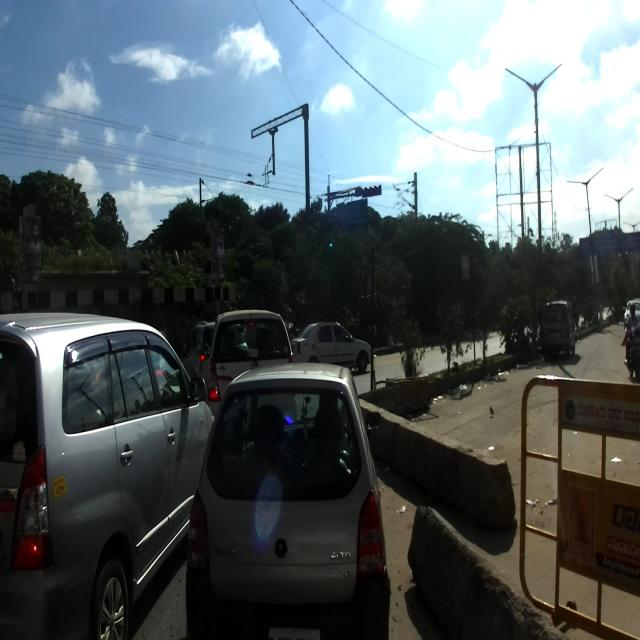car: (0, 310, 214, 639), (184, 364, 390, 640), (199, 308, 293, 420), (290, 320, 371, 372), (540, 298, 576, 358)
